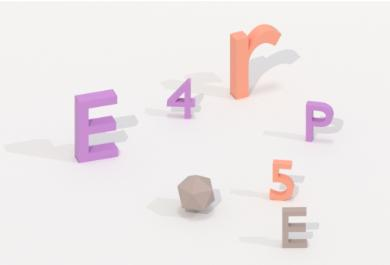0-TronCanh: (173, 170, 218, 218)
4: (163, 73, 199, 123)
5: (267, 156, 297, 202)
E: (70, 85, 124, 167), (278, 203, 311, 254)
P: (302, 97, 338, 148)
r: (227, 20, 285, 103)
